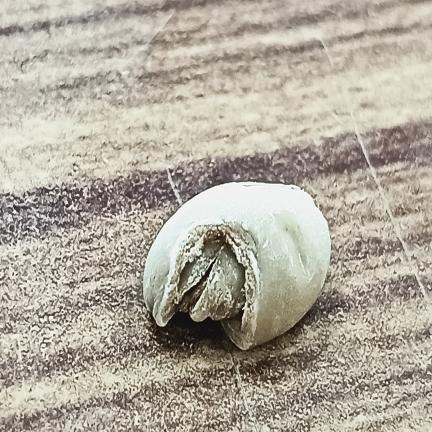cut: (143, 182, 331, 350)
